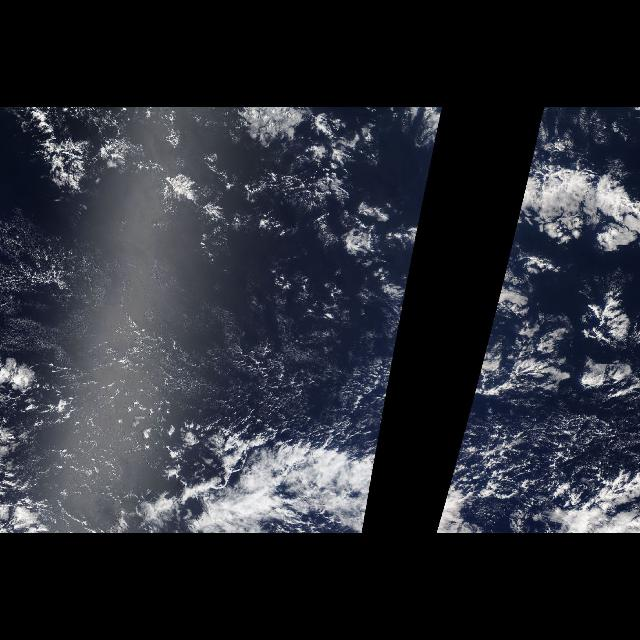Flower: (208, 107, 444, 275), (504, 107, 640, 275)
Gravel: (6, 368, 350, 534), (473, 411, 639, 534)
Sugar: (0, 218, 378, 437), (478, 402, 626, 478)
